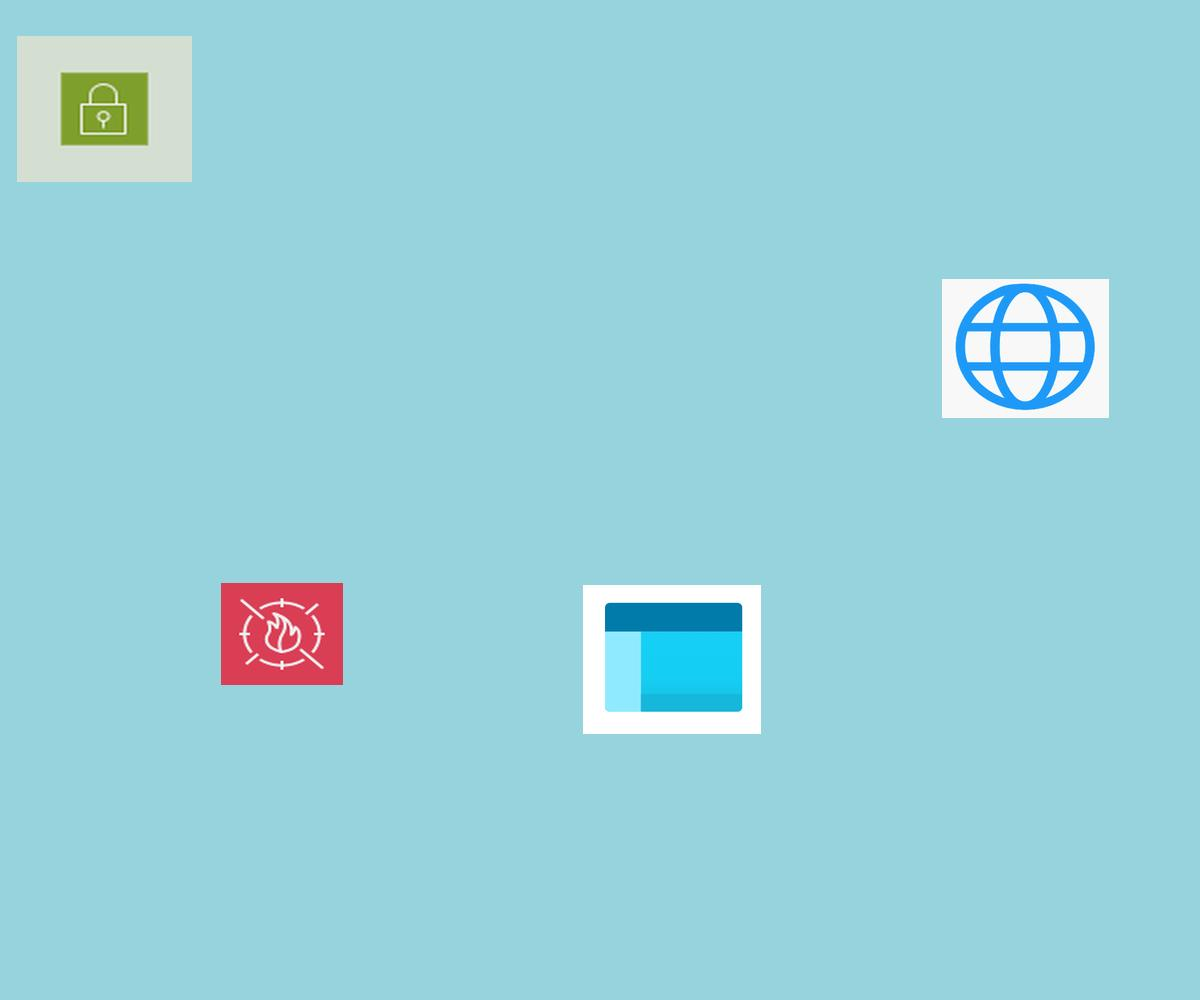AWS-Public-subnet: (17, 36, 192, 182)
AWS-WAF: (221, 583, 343, 685)
Azure_http: (942, 279, 1109, 418)
Azure_management-portal: (583, 585, 761, 734)
